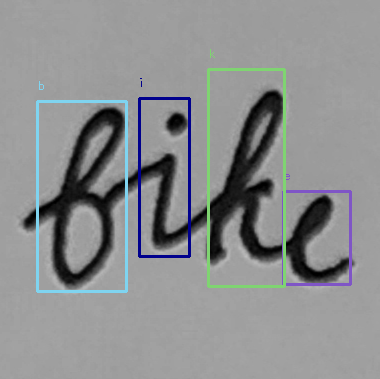b: (47, 102, 131, 289)
e: (282, 190, 358, 290)
i: (144, 110, 189, 255)
k: (201, 86, 287, 269)
